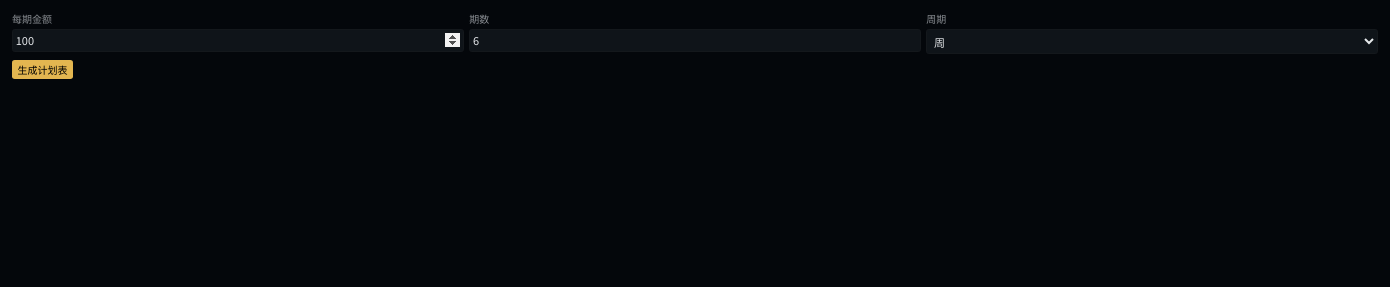
Scenario: DcaPanel(DCA 定投面板) › 默认 100/6 → 生成计划表 → 6 行
Click the button "生成计划表".
click(42, 70)  # box [12,60,73,79]
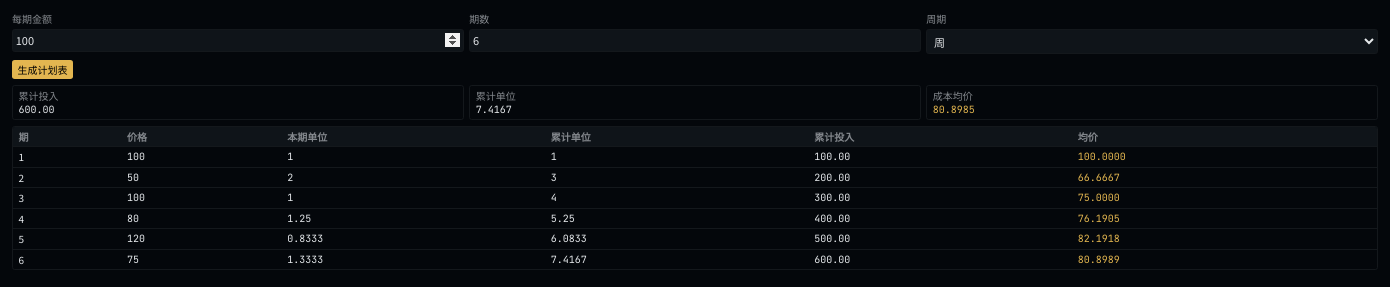
Now the number of rows with class "dca-row" is 6, box [13,147,1377,167]; [13,167,1377,188]; [13,188,1377,208]; [13,208,1377,229]; [13,229,1377,249]; [13,249,1377,269]
Now the text "成本均价" is shown, box [933,88,973,102]
